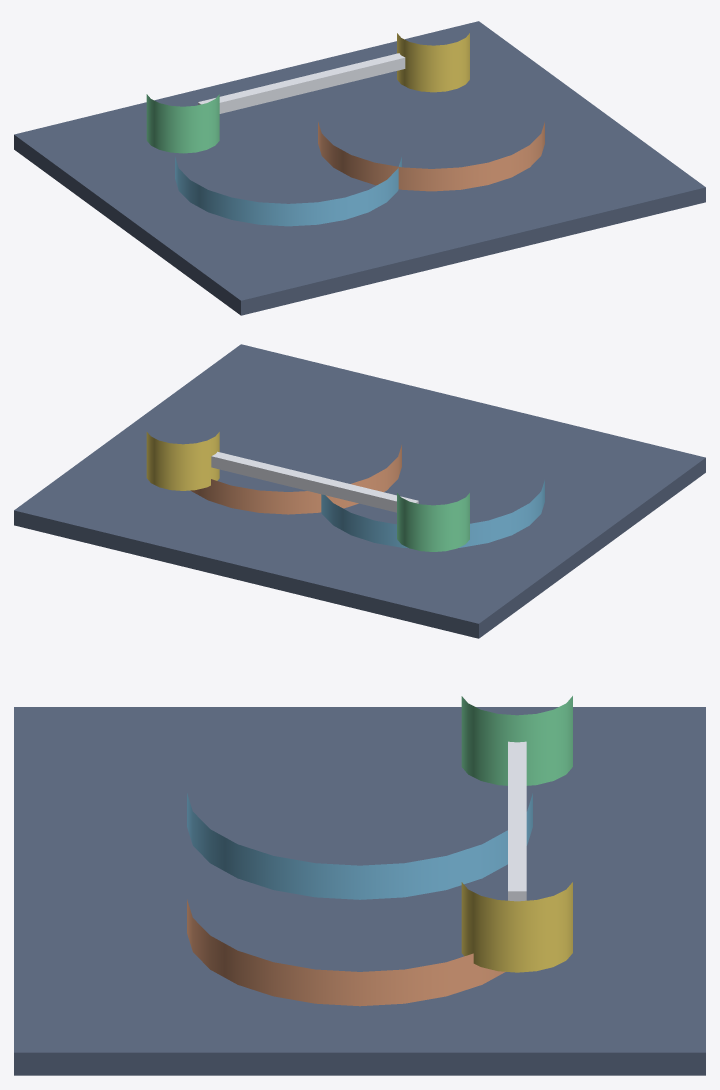
Rendered from discrete_mathematics.glb.
The picture shows the model from 3 angles, top to bottom: view 1: azimuth 30°, elevation 25°; view 2: azimuth 150°, elevation 25°; view 3: azimuth 270°, elevation 25°; orthographic projection. The views are drawn at different scales.
Parts seen in each view (by area): view 1: BaseBoard, SetRingA, SetRingB, GraphNode1, GraphEdgeConnector, GraphNode2; view 2: BaseBoard, SetRingB, SetRingA, GraphNode1, GraphEdgeConnector, GraphNode2; view 3: BaseBoard, SetRingA, SetRingB, GraphNode2, GraphNode1, GraphEdgeConnector.
Boxes of the visible parts, x1,y1,x2,y2 form: BaseBoard: (14, 21, 705, 315); SetRingA: (175, 157, 401, 226); SetRingB: (318, 122, 544, 191); GraphNode1: (146, 94, 219, 153); GraphEdgeConnector: (198, 53, 405, 113); GraphNode2: (397, 33, 469, 92); BaseBoard: (14, 344, 705, 638); SetRingB: (190, 445, 401, 514); SetRingA: (321, 480, 544, 548); GraphNode1: (397, 493, 469, 551); GraphEdgeConnector: (211, 451, 418, 512); GraphNode2: (146, 432, 219, 490); BaseBoard: (14, 707, 705, 1075); SetRingA: (187, 793, 532, 899); SetRingB: (187, 899, 532, 1006); GraphNode2: (461, 882, 572, 972); GraphNode1: (461, 696, 572, 785); GraphEdgeConnector: (508, 741, 526, 901).
Bounding box in the file's own units: 2.6 × 0.415 × 2.2.
